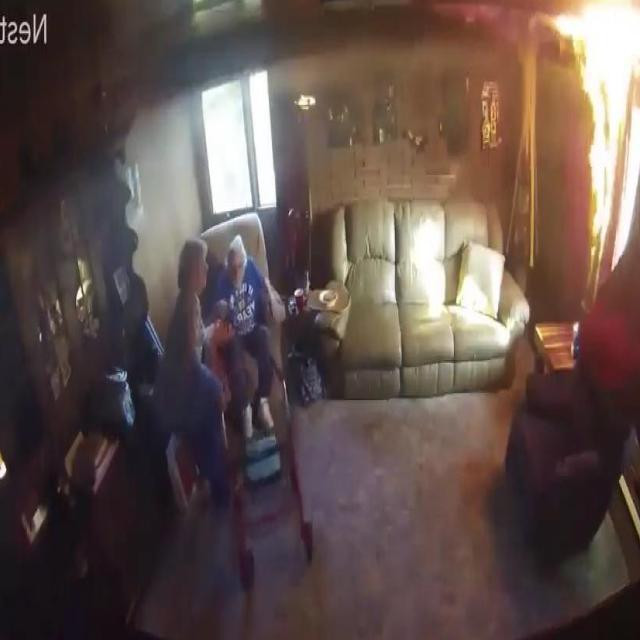fire: (278, 33, 492, 113)
smoke: (553, 0, 640, 273)
